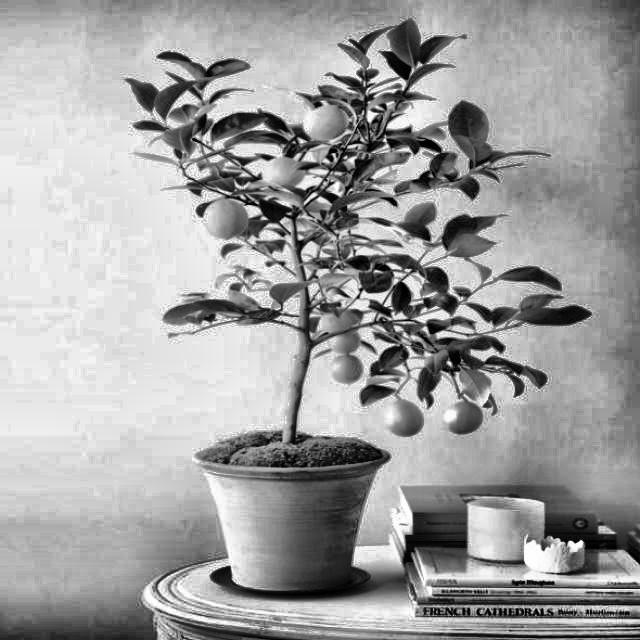plants: (155, 50, 487, 440)
